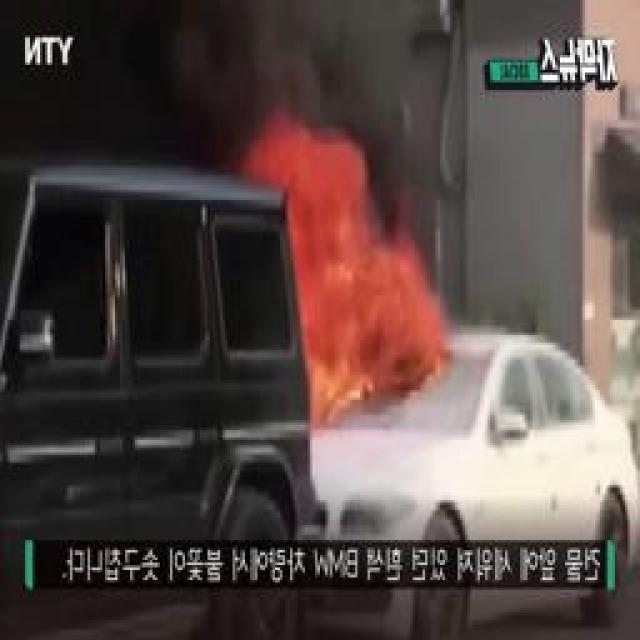Fire: (242, 132, 422, 413)
